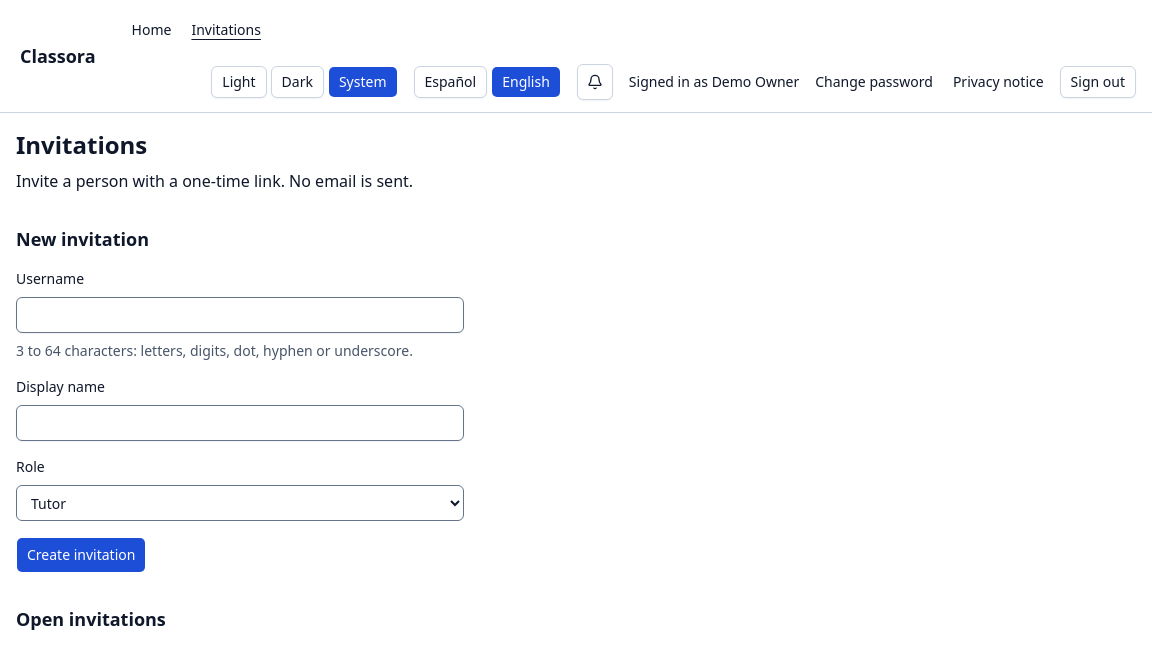
Test case: the invite form (I2) › shows the staff note for a staff role only
Step 1. Select "Tutor" in the dropdown labelled "Role" → (240, 503), box [16,485,464,521]
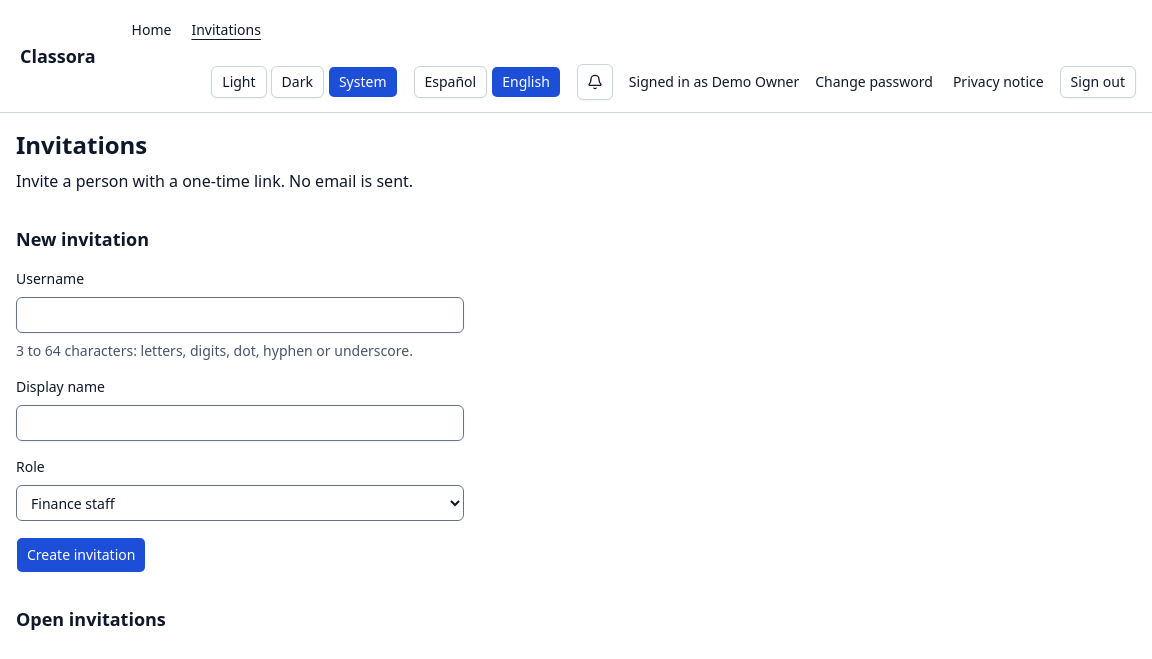
Expected: the text "For a staff role you'll be asked for your password." is not shown
Step 2. Select "Finance staff" in the dropdown labelled "Role" → (240, 503), box [16,485,464,521]
(page scrolled)
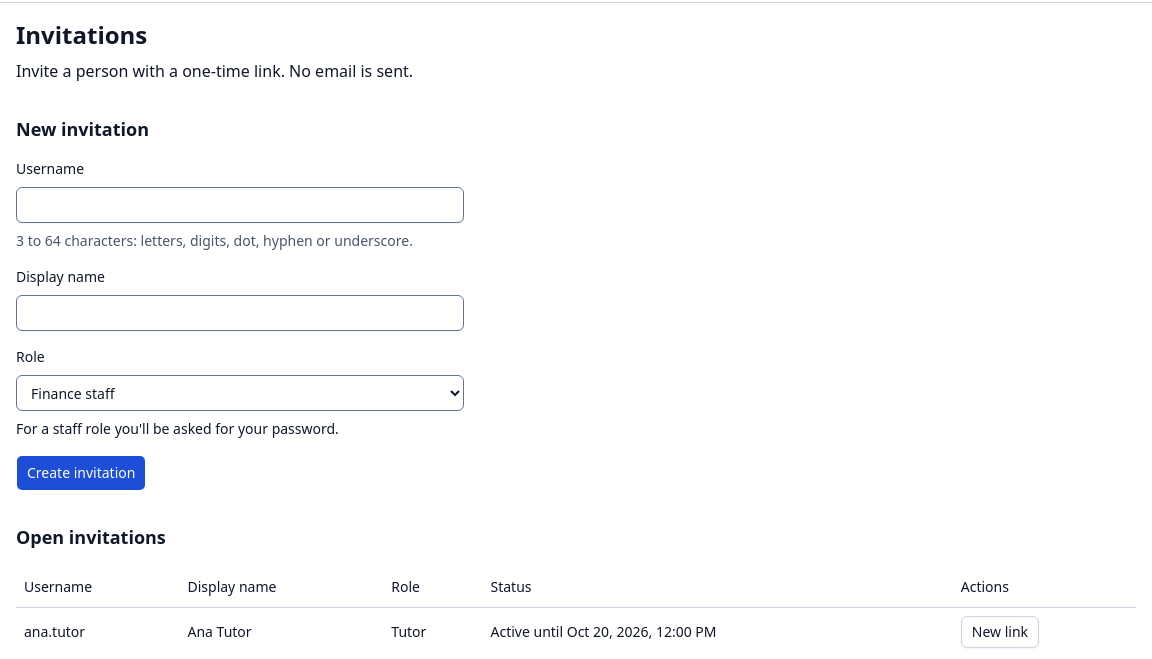
Expected: the element that starts with "Invitations" shows "For a staff role you'll be asked for your password.", [16,419,339,438]
